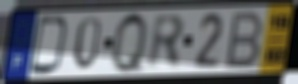0: (70, 16, 103, 72)
2: (192, 12, 225, 70)
B: (222, 9, 266, 71)
D: (27, 15, 71, 77)
Q: (111, 10, 149, 76)
R: (146, 13, 187, 72)
